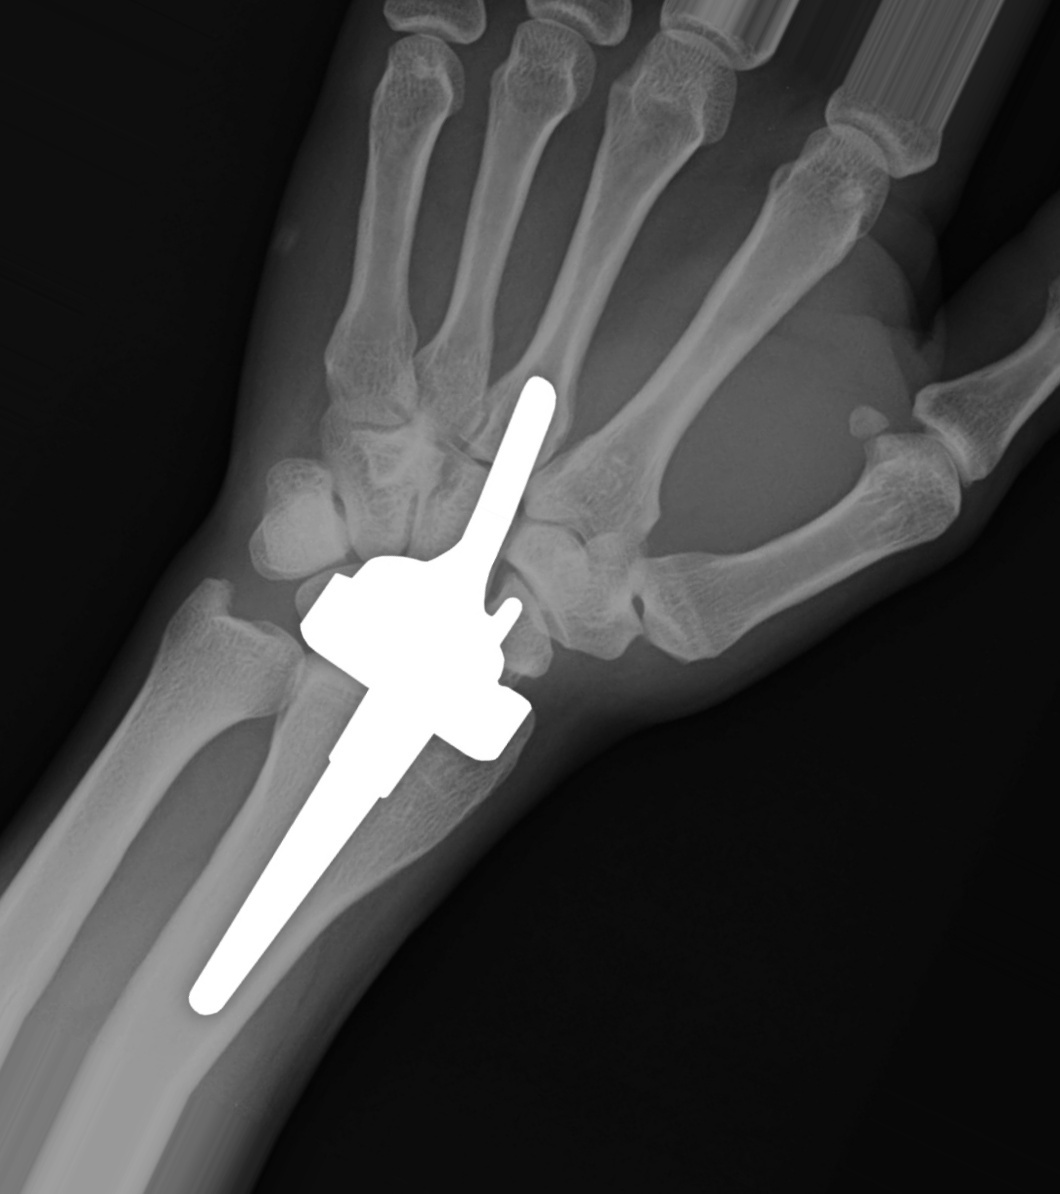Wrist-Biax-DePuuy: (182, 375, 562, 1020)
